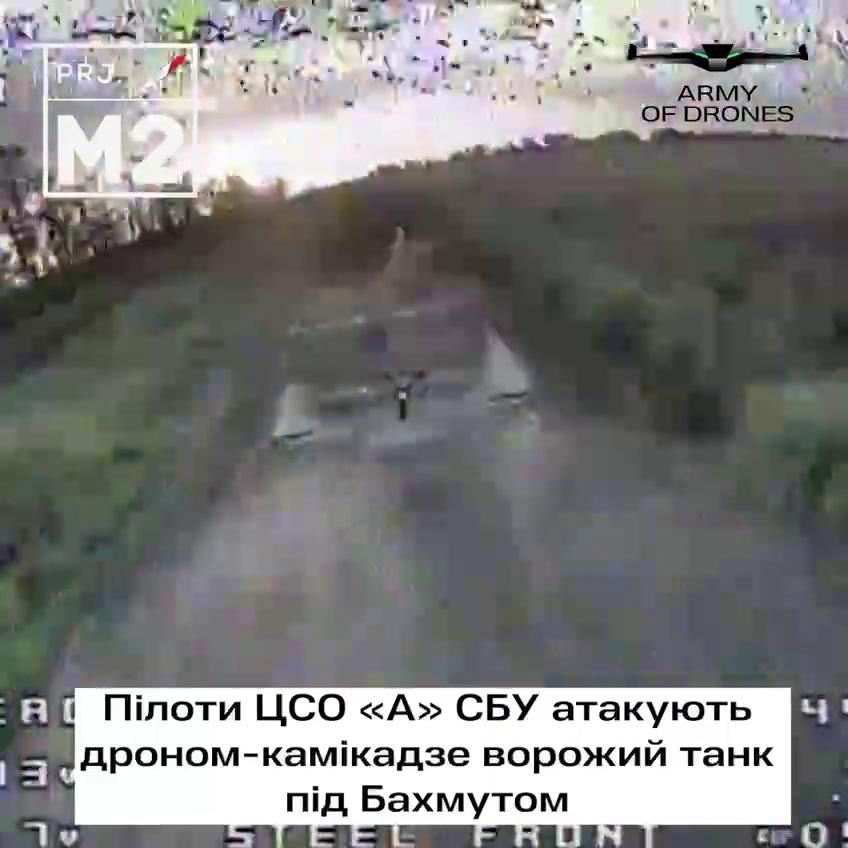tank: (272, 228, 555, 512)
